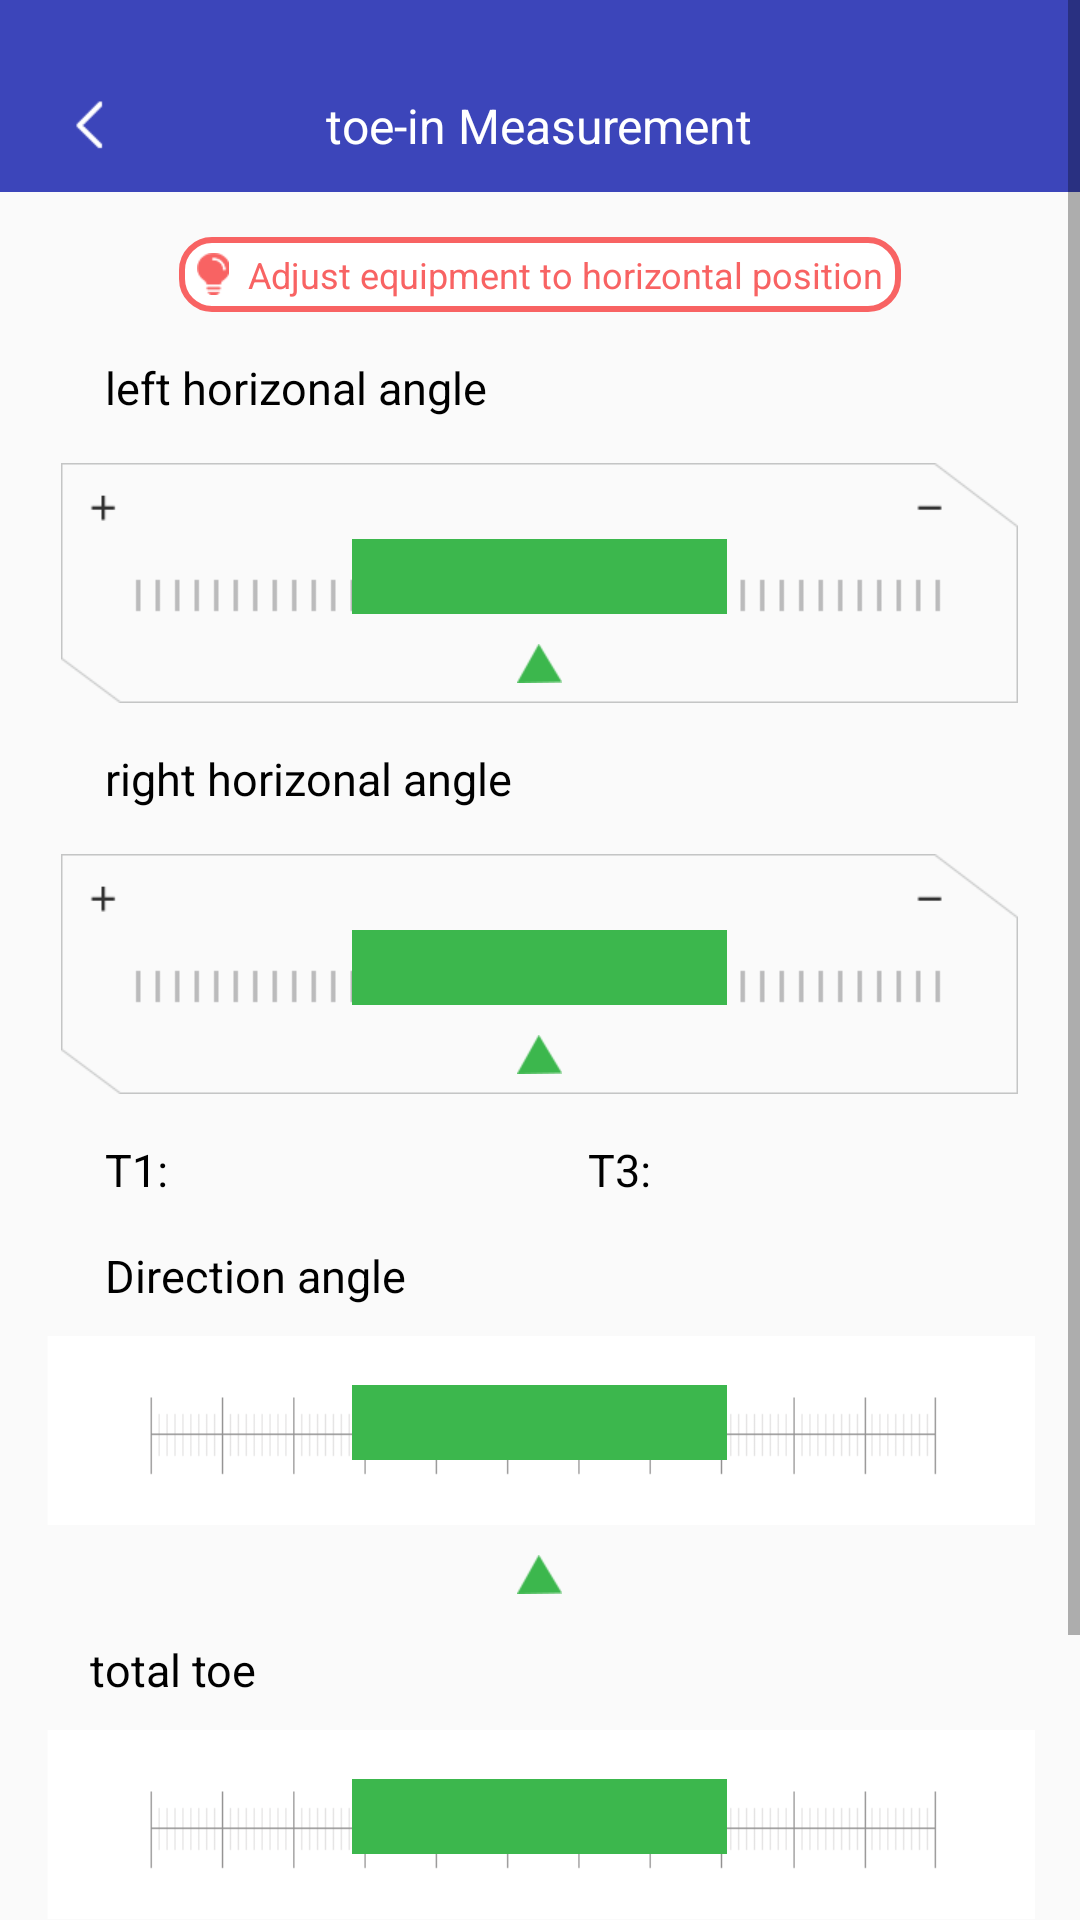

Locate icon controls on the screen. Image size 1080w x 1920h, boxes as (x1=x1, y1=y1, x2=x2, y2=y2).
back: (x1=76, y1=101, x2=103, y2=149)
bulb: (x1=197, y1=253, x2=229, y2=295)
